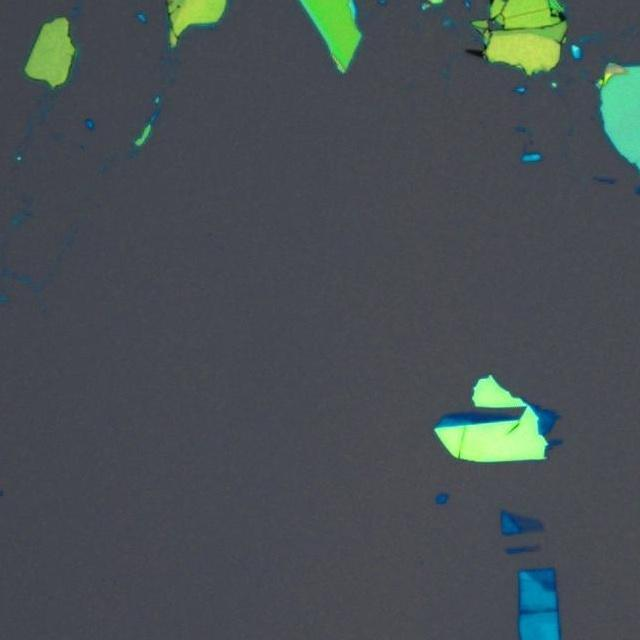monolayer-eWW4: (512, 514, 545, 532)
